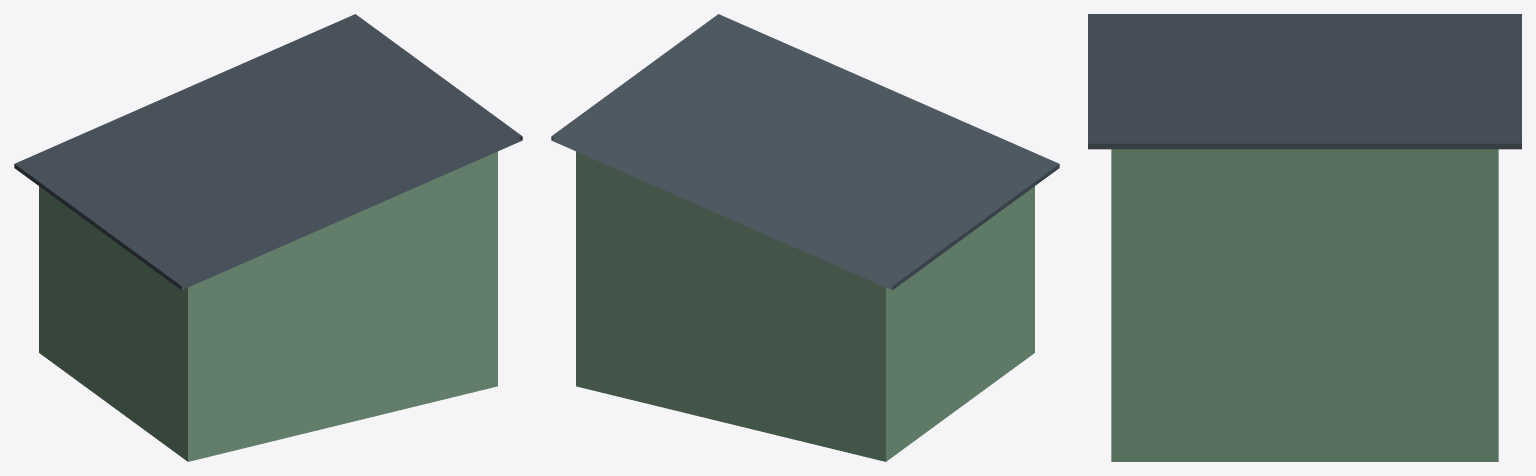
Rendered from far.fbx.
3 renders of one model, left to right at view 1: azimuth 30°, elevation 25°; view 2: azimuth 150°, elevation 25°; view 3: azimuth 270°, elevation 25°, orthographic. The views are drawn at different scales.
Parts seen in each view (by area): view 1: a2014/500/far; view 2: a2014/500/far; view 3: a2014/500/far.
Boxes of the visible parts, x1=… form: a2014/500/far: x1=14, y1=14, x2=522, y2=461; a2014/500/far: x1=551, y1=14, x2=1059, y2=461; a2014/500/far: x1=1088, y1=14, x2=1521, y2=461.
Bounding box in the file's own units: 6.6 × 4.68 × 5.6.
